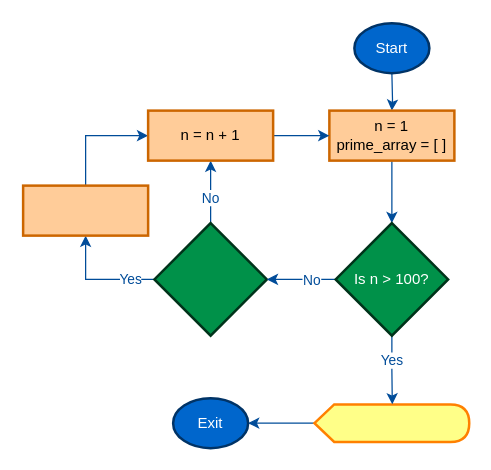
This 491x470 diagram has some shape labels left out. Here are the shapes that lost their labels. From the top down, the box of each, then its label:
(21, 184, 149, 236): Add n to prime_array
(152, 221, 268, 336): Check n is prime?
(313, 402, 470, 442): print prime_array
